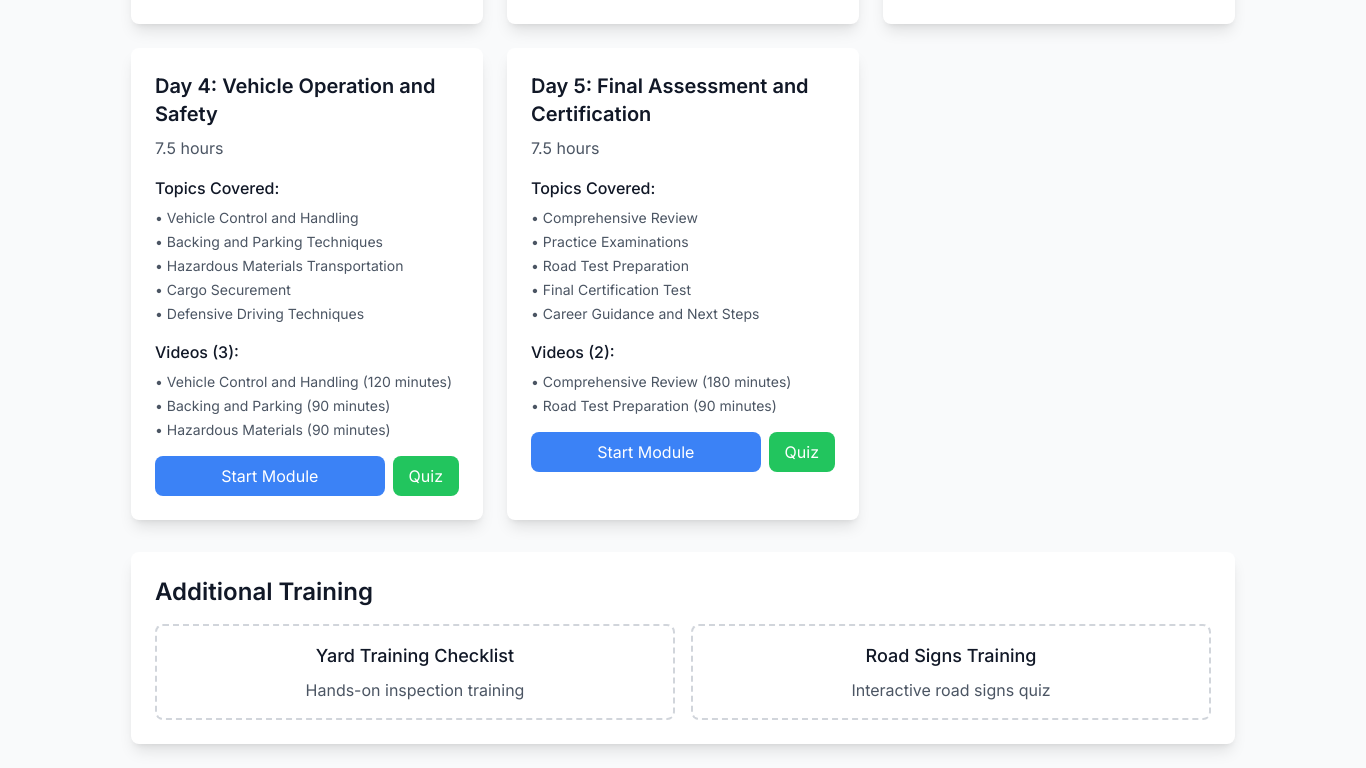
it: CDLTrainingModule › enters yard training mode when clicked
(page scrolled)
Click the button "Yard Training Checklist Hands-on inspection training": (415, 656) x1=155 y1=624 x2=675 y2=720
(page scrolled)
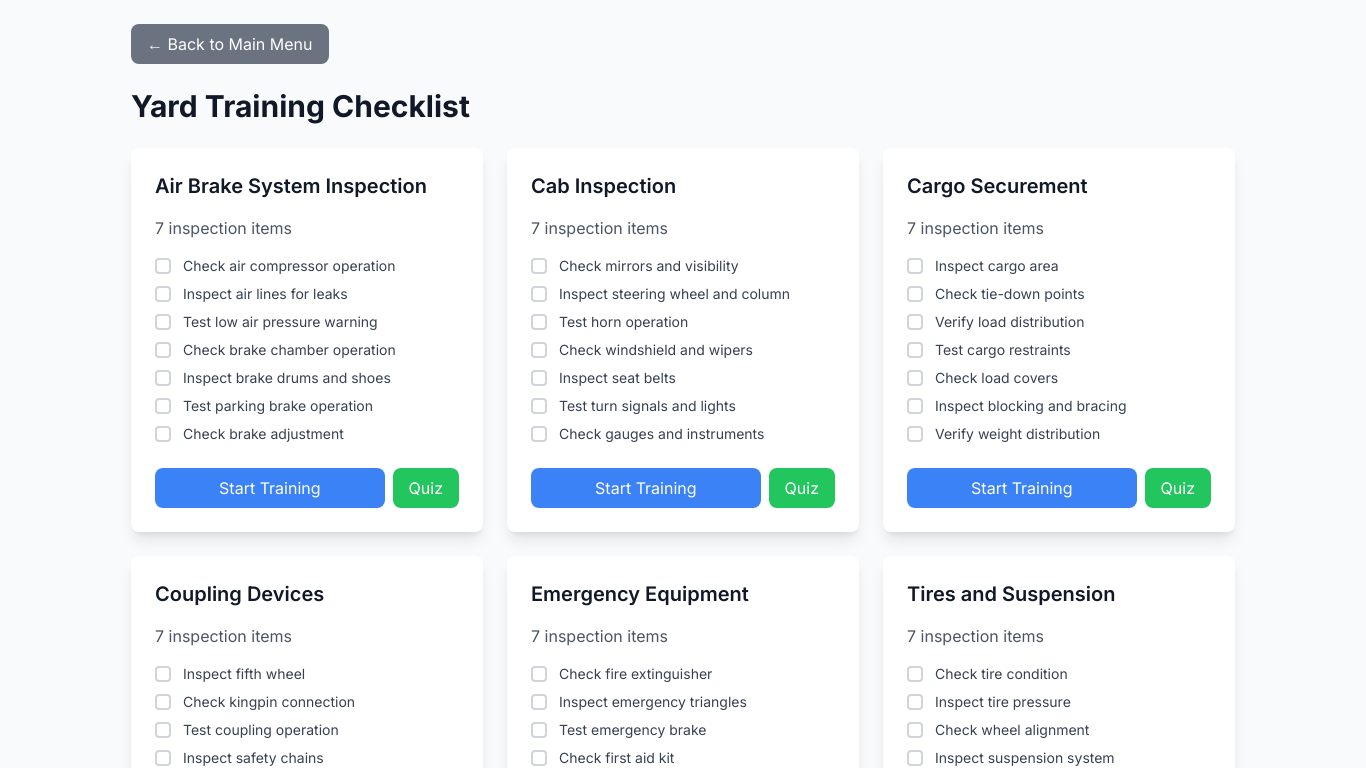
Expected: the heading "Yard Training Checklist" is shown, x1=131 y1=88 x2=470 y2=124
Expected: the heading "Air Brake System Inspection" is shown, x1=155 y1=172 x2=459 y2=200
Expected: the heading "Cab Inspection" is shown, x1=531 y1=174 x2=676 y2=198
